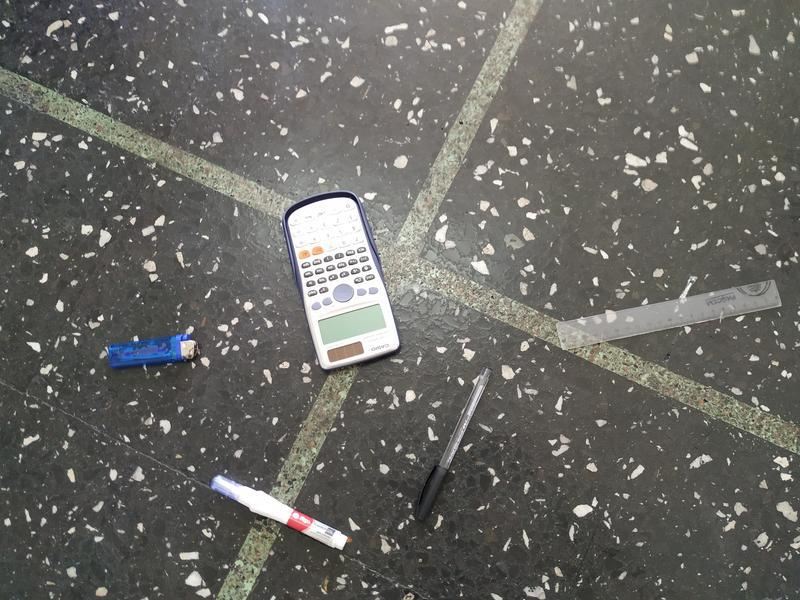calculadora: (277, 186, 403, 380)
corrector: (201, 466, 358, 557)
encendedor: (95, 320, 205, 386)
lapicera: (405, 363, 497, 525)
regla: (543, 263, 786, 353)
